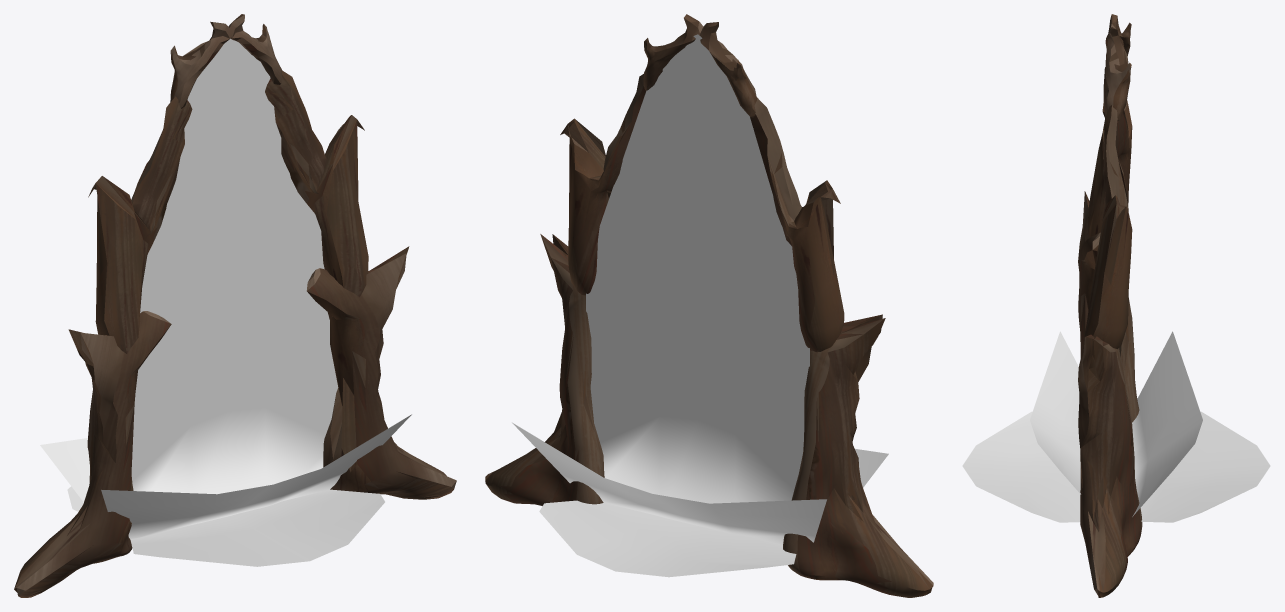
The model's file is Gateway.fbx.
3 views of the same model, side by side, from view 1: azimuth 30°, elevation 25°; view 2: azimuth 150°, elevation 25°; view 3: azimuth 270°, elevation 25° (orthographic). The views are drawn at different scales.
Parts seen in each view (by area): view 1: Gateway VFX, Gateway Trunks; view 2: Gateway VFX, Gateway Trunks; view 3: Gateway VFX, Gateway Trunks.
Boxes of the visible parts, x1=… form: Gateway VFX: x1=40, y1=38, x2=411, y2=566; Gateway Trunks: x1=14, y1=14, x2=456, y2=597; Gateway VFX: x1=512, y1=34, x2=888, y2=577; Gateway Trunks: x1=485, y1=14, x2=933, y2=597; Gateway VFX: x1=962, y1=331, x2=1270, y2=522; Gateway Trunks: x1=1078, y1=14, x2=1142, y2=597.
Bounding box in the file's own units: 243 × 276 × 159.
